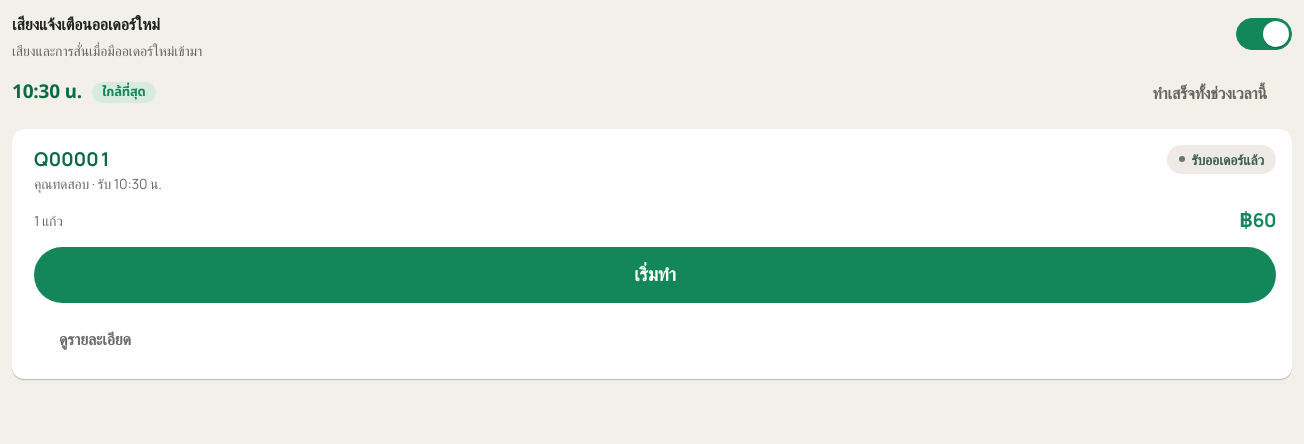
Test: WBS 5.9 — InboxClient: a failed single-order transition rolls back visibly with a Thai explanation › a stale error from a PREVIOUS tap is cleared the moment a new tap starts
Click the button with test id "order-card-advance". click: (655, 274)
box: [34,246,1276,302]
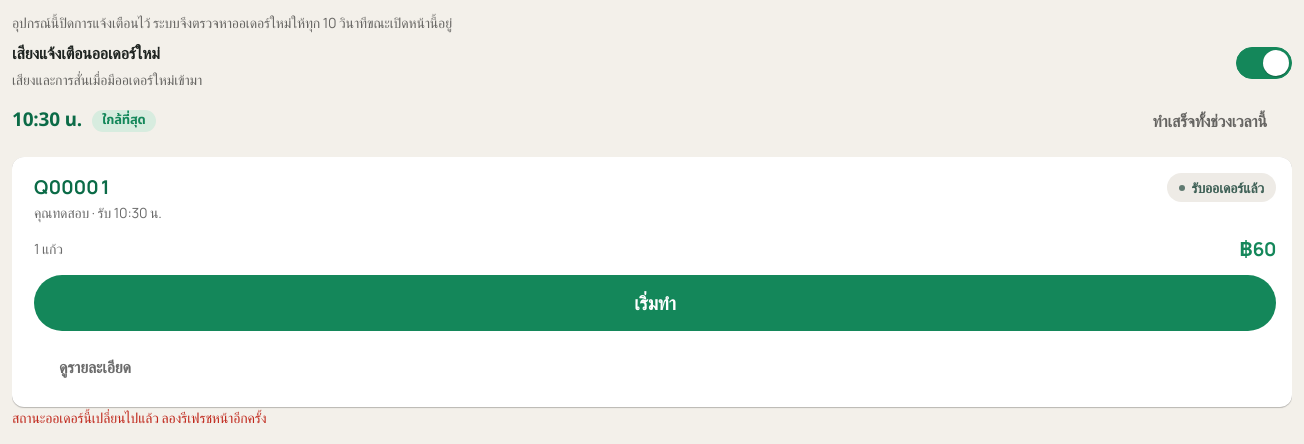
Now the message "สถานะออเดอร์นี้เปลี่ยนไปแล้ว ลองรีเฟรชหน้าอีกครั้ง" is shown, box [12,408,266,427]
Click the button with test id "order-card-advance". click: (655, 303)
box: [34,275,1276,331]
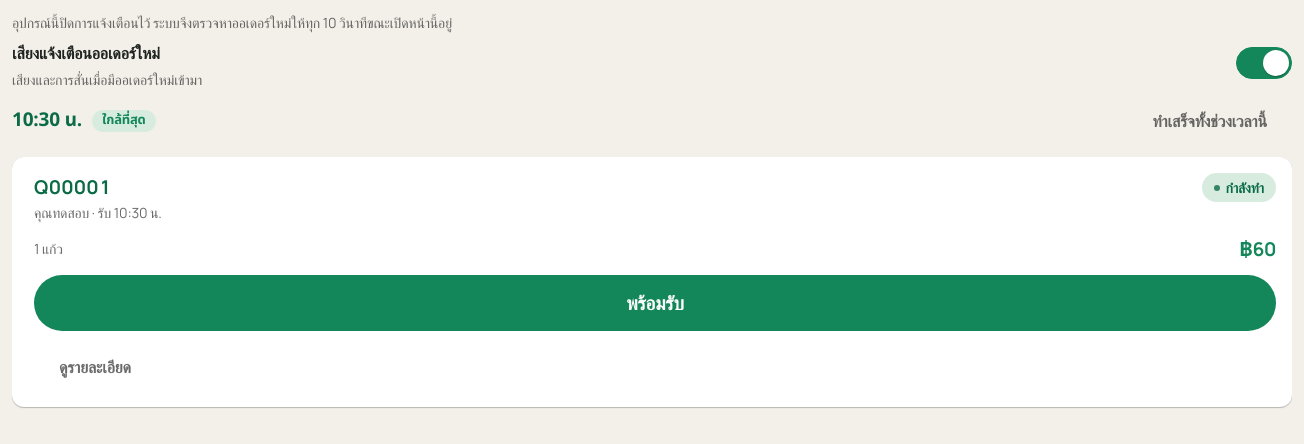
Now the message with test id "order-card-error" is gone
